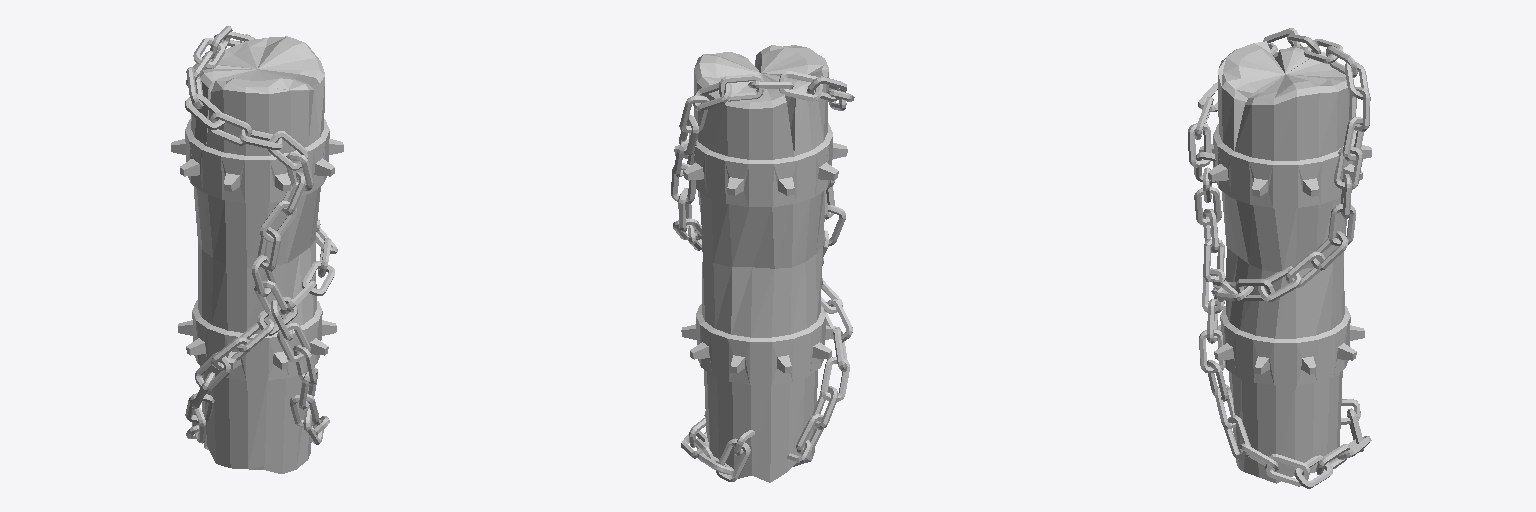
Rendered from Totem.obj.
3 renders of one model, left to right at view 1: azimuth 30°, elevation 25°; view 2: azimuth 150°, elevation 25°; view 3: azimuth 270°, elevation 25°, orthographic.
Parts seen in each view (by area): view 1: Totem; view 2: Totem; view 3: Totem.
Boxes of the visible parts, x1=… form: Totem: x1=171, y1=26, x2=343, y2=473; Totem: x1=671, y1=45, x2=854, y2=482; Totem: x1=1188, y1=28, x2=1371, y2=488.
Bounding box in the file's own units: 148 × 377 × 155.